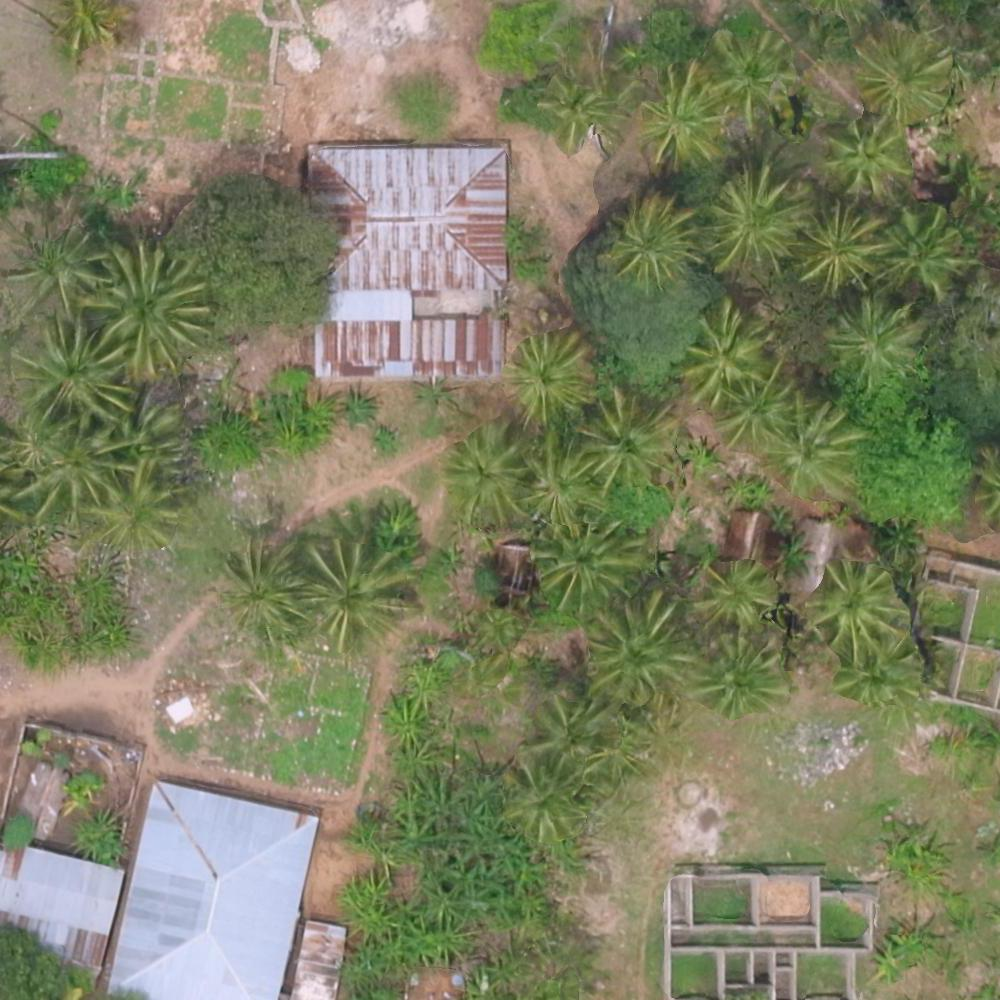Palm: (93, 248, 215, 367), (16, 314, 126, 424), (299, 542, 407, 652), (81, 467, 191, 563), (586, 594, 691, 693), (527, 521, 635, 614), (18, 425, 125, 515), (712, 171, 801, 271), (638, 67, 732, 161), (758, 397, 855, 488), (853, 31, 951, 117), (8, 222, 102, 311), (212, 541, 302, 632), (685, 306, 771, 401), (584, 392, 672, 484), (830, 297, 920, 384), (880, 204, 966, 294), (524, 429, 602, 528), (707, 363, 797, 448), (445, 430, 535, 515), (812, 562, 902, 646), (608, 200, 698, 283), (506, 332, 596, 415), (526, 695, 619, 775), (711, 33, 794, 122), (798, 200, 879, 290), (694, 631, 781, 713), (497, 769, 586, 849), (825, 116, 911, 196), (694, 555, 772, 626)
